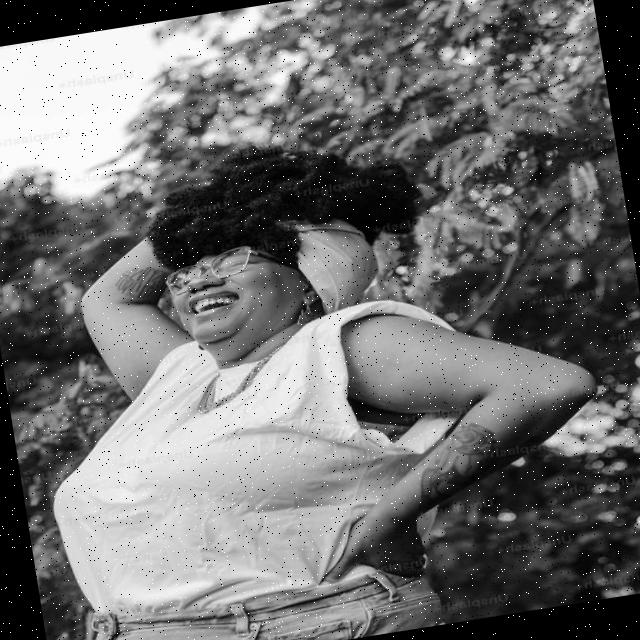Happiness: (161, 236, 310, 353)
